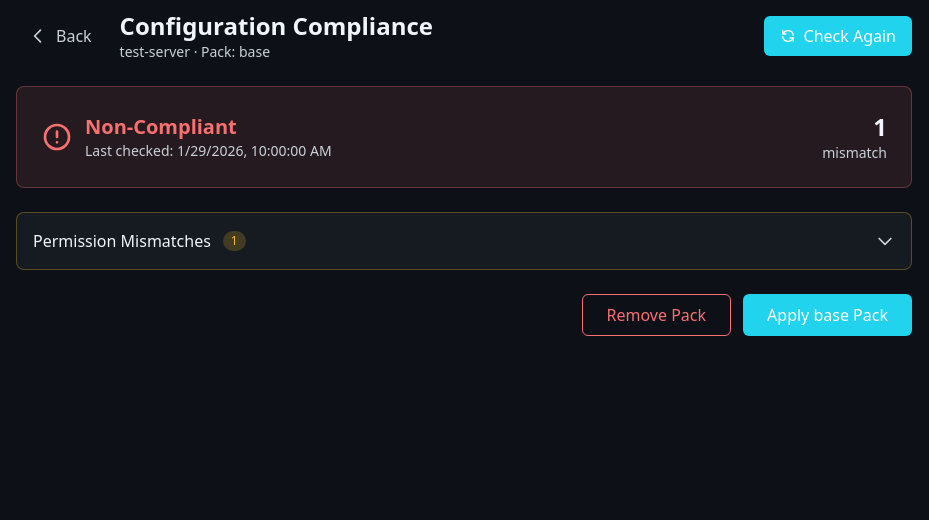
Test case: ConfigDiffView › Mismatch type variations (AC coverage) › renders wrong_permissions mismatch with expected/actual modes
The width and height of the screenshot is (929, 520).
Expand the Permission Mismatches section (collapsed by default)
Click the button with test id "mismatch-section-toggle" at [122, 241], box left=17, top=213, right=911, bottom=269
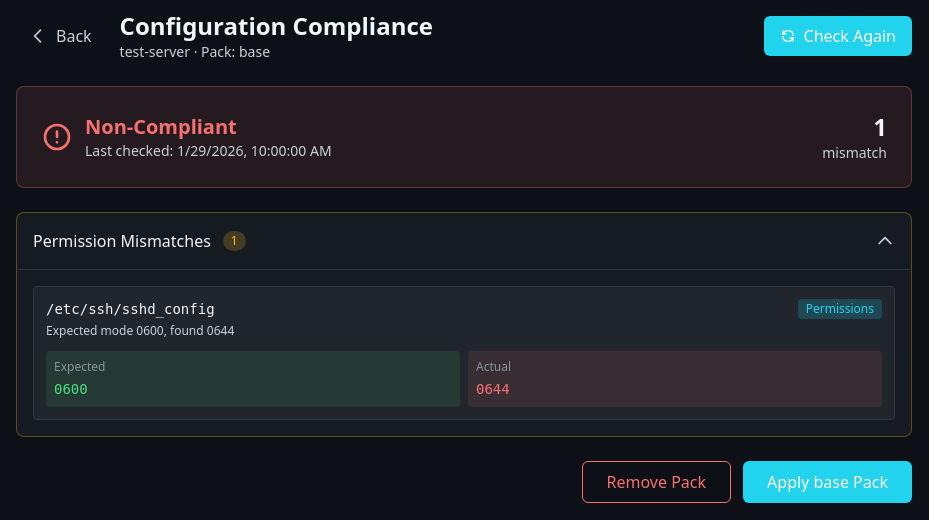
Now the element with test id "mismatch-item-/etc/ssh/sshd_config" is shown, box left=33, top=286, right=895, bottom=420
Now the text "Expected mode 0600, found 0644" is shown, box left=46, top=322, right=234, bottom=339
Now the text "Permissions" is shown, box left=798, top=299, right=882, bottom=319
